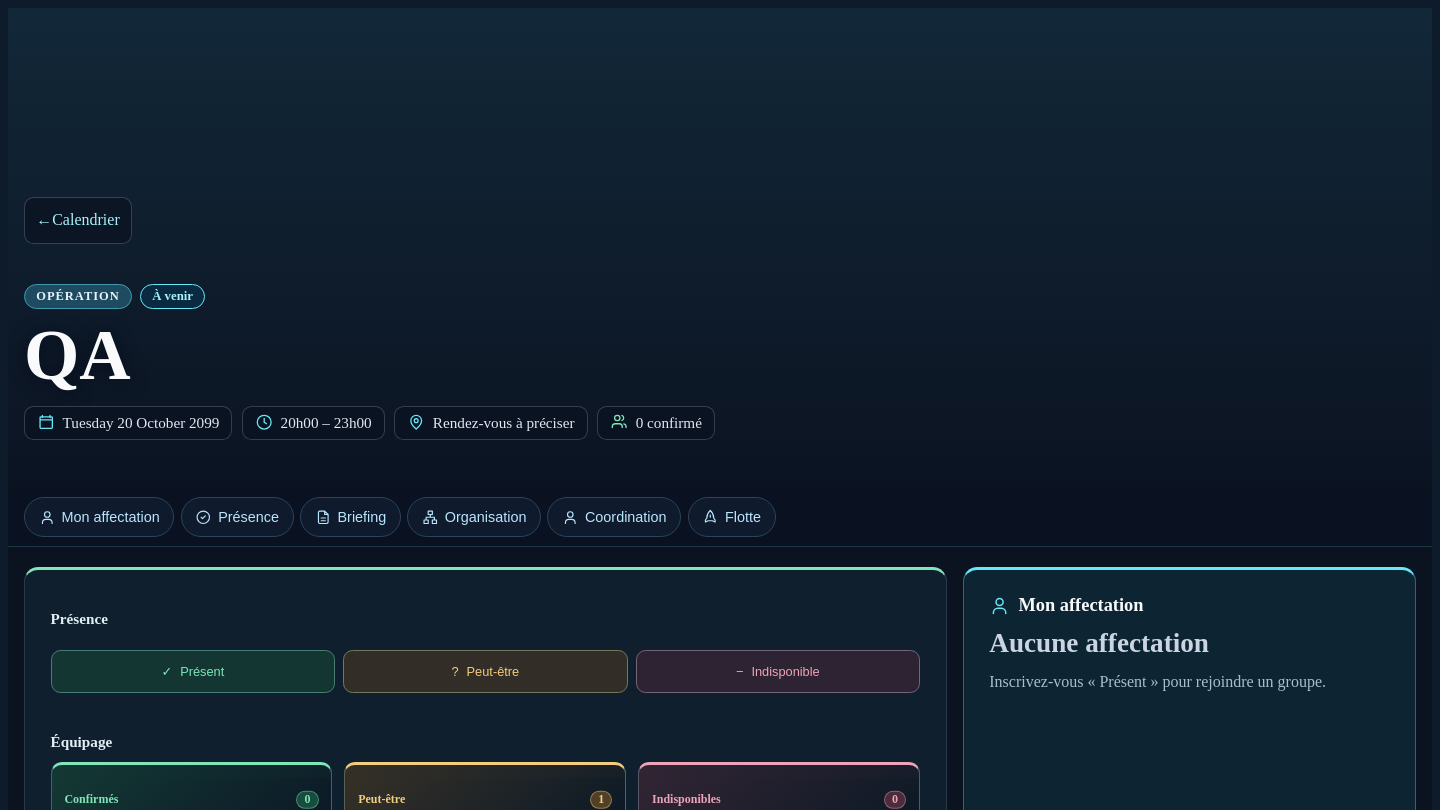
Test case: OperationPageComponent › keeps the coordination board folded until asked, and says what is waiting in it
This screenshot has width=1440, height=810.
Click the button "Coordination": (614, 517) 547,497 -> 681,537
(page scrolled)
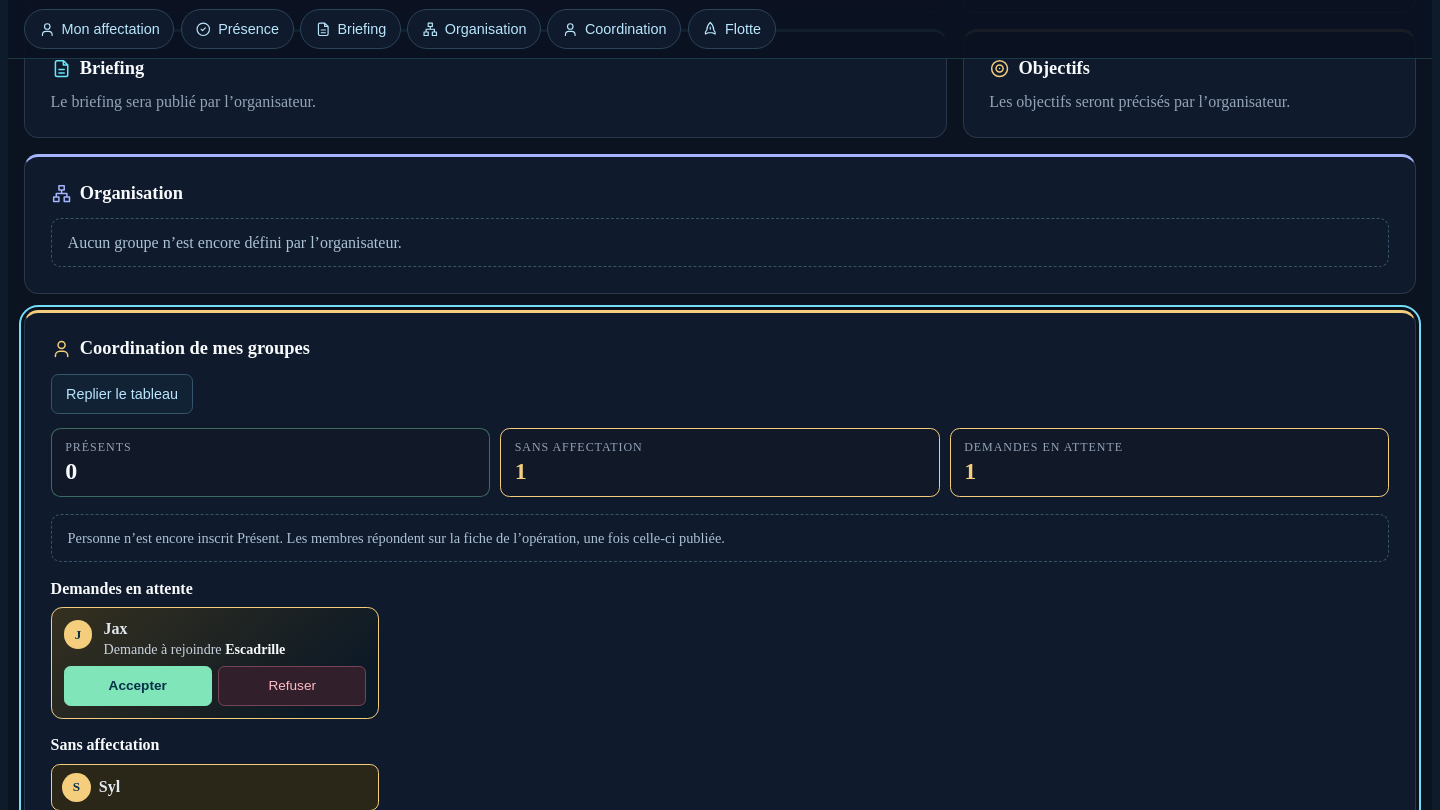
Result: the button with class "fold" is expanded at 51,374 -> 193,414
